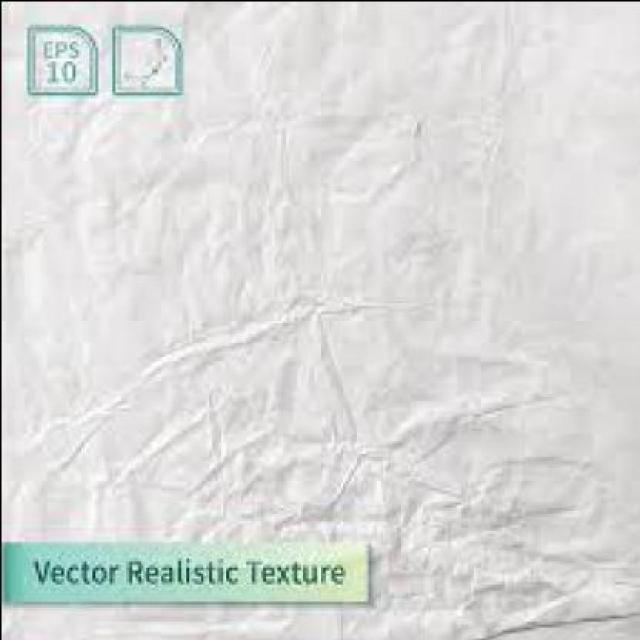PAPER: (1, 1, 637, 637), (1, 101, 637, 538)
